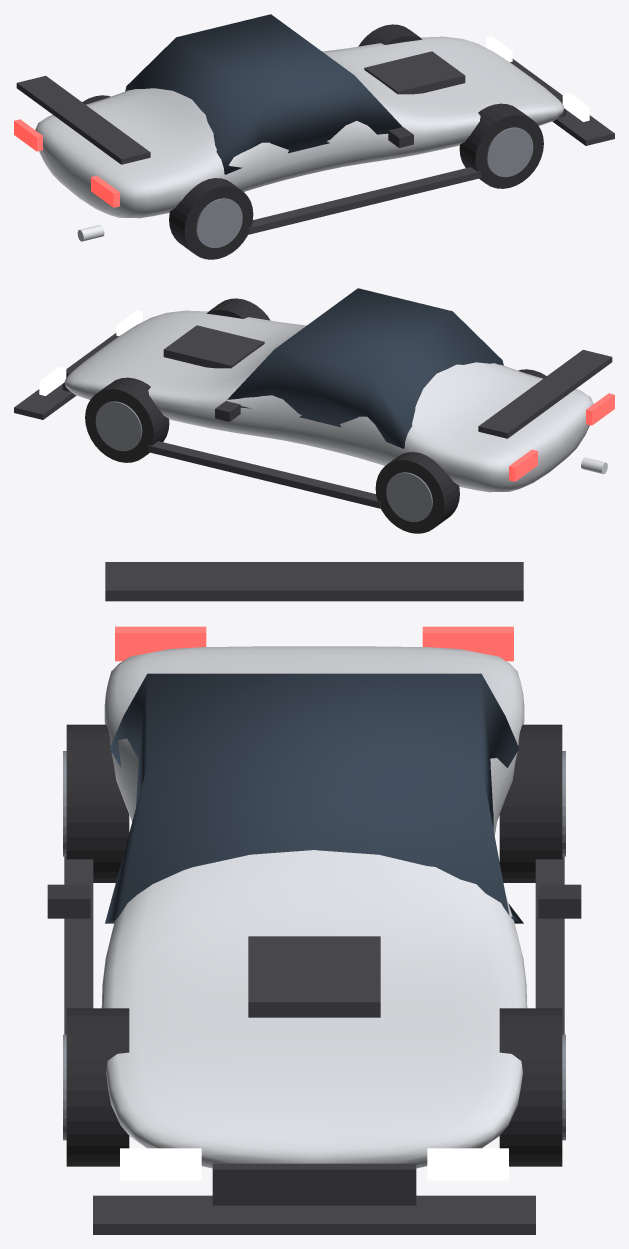
File: car_sehir_ustasi.glb
The picture shows the model from 3 angles, top to bottom: view 1: azimuth 30°, elevation 25°; view 2: azimuth 150°, elevation 25°; view 3: azimuth 270°, elevation 25°; orthographic projection. The views are drawn at different scales.
Parts seen in each view (by area): view 1: CarBody, CarGlass, Mod_Wing, Tire_1.395_-1, Tire_-1.395_-1, Mod_Skirt_-1, Mod_Hood, Rim_1.395_-1, Rim_-1.395_-1, Mod_Splitter, Tire_1.395_1, TailL_1 (+5 smaller); view 2: CarBody, CarGlass, Mod_Wing, Tire_1.395_1, Tire_-1.395_1, Mod_Skirt_1, Mod_Hood, Rim_1.395_1, Rim_-1.395_1, Mod_Splitter, Tire_1.395_-1, TailL_-1 (+5 smaller); view 3: CarBody, CarGlass, Mod_Wing, Mod_Splitter, Mod_Hood, Grille, Tire_1.395_1, Tire_1.395_-1, Tire_-1.395_1, Tire_-1.395_-1, Mod_Skirt_1, Mod_Skirt_-1 (+6 smaller).
Boxes of the visible parts, left/top/right/bottom form: CarBody: left=35, top=36, right=564, bottom=218; CarGlass: left=125, top=14, right=402, bottom=174; Mod_Wing: left=16, top=76, right=150, bottom=164; Tire_1.395_-1: left=459, top=103, right=543, bottom=188; Tire_-1.395_-1: left=169, top=178, right=253, bottom=259; Mod_Skirt_-1: left=248, top=167, right=480, bottom=234; Mod_Hood: left=364, top=51, right=465, bottom=94; Rim_1.395_-1: left=486, top=127, right=533, bottom=177; Rim_-1.395_-1: left=196, top=198, right=242, bottom=247; Mod_Splitter: left=512, top=59, right=614, bottom=145; Tire_1.395_1: left=358, top=24, right=422, bottom=46; TailL_1: left=14, top=119, right=42, bottom=151; CarBody: left=64, top=310, right=593, bottom=492; CarGlass: left=227, top=288, right=503, bottom=448; Mod_Wing: left=478, top=350, right=612, bottom=438; Tire_1.395_1: left=85, top=377, right=169, bottom=462; Tire_-1.395_1: left=375, top=452, right=459, bottom=533; Mod_Skirt_1: left=148, top=441, right=380, bottom=508; Mod_Hood: left=163, top=325, right=264, bottom=368; Rim_1.395_1: left=95, top=401, right=142, bottom=451; Rim_-1.395_1: left=386, top=472, right=432, bottom=521; Mod_Splitter: left=14, top=333, right=116, bottom=419; Tire_1.395_-1: left=206, top=298, right=270, bottom=320; TailL_-1: left=586, top=393, right=614, bottom=425; CarBody: left=101, top=646, right=527, bottom=1168; CarGlass: left=105, top=673, right=523, bottom=923; Mod_Wing: left=105, top=562, right=523, bottom=601; Mod_Splitter: left=93, top=1195, right=535, bottom=1234; Mod_Hood: left=248, top=936, right=380, bottom=1017; Grille: left=212, top=1163, right=416, bottom=1205; Tire_1.395_1: left=499, top=1008, right=562, bottom=1166; Tire_1.395_-1: left=66, top=1008, right=129, bottom=1166; Tire_-1.395_1: left=499, top=724, right=562, bottom=882; Tire_-1.395_-1: left=66, top=724, right=129, bottom=882; Mod_Skirt_1: left=535, top=856, right=564, bottom=1034; Mod_Skirt_-1: left=64, top=856, right=93, bottom=1034.
Size of the model in its own units: 4.87 by 1.2 by 2.22.
